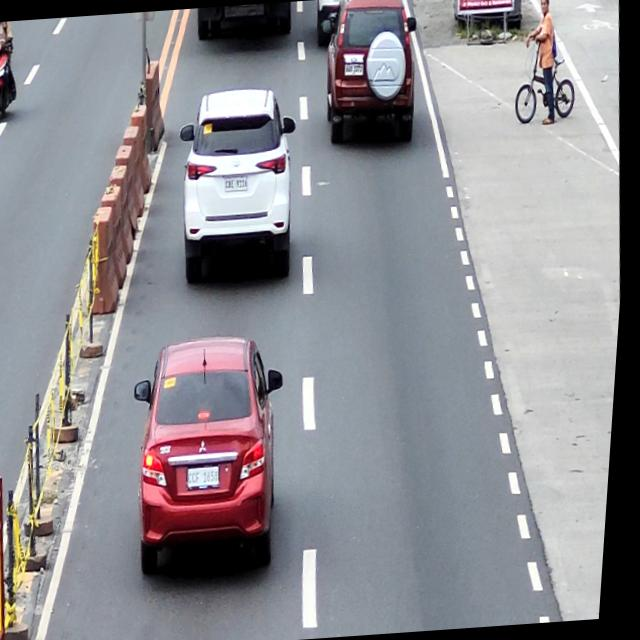Bicycle: (510, 32, 581, 128)
Car: (128, 331, 304, 581), (172, 86, 311, 286), (314, 0, 426, 149)
License-Plate: (192, 466, 226, 486), (227, 176, 251, 193), (344, 64, 364, 76)
Motorcycle: (0, 33, 19, 125)
